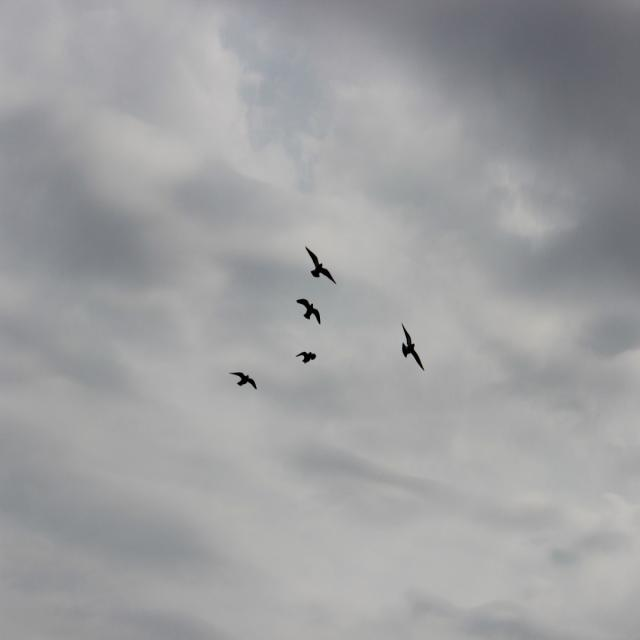bird: (303, 244, 336, 286), (400, 324, 426, 370), (296, 296, 323, 326), (230, 371, 259, 393), (295, 348, 319, 366)
